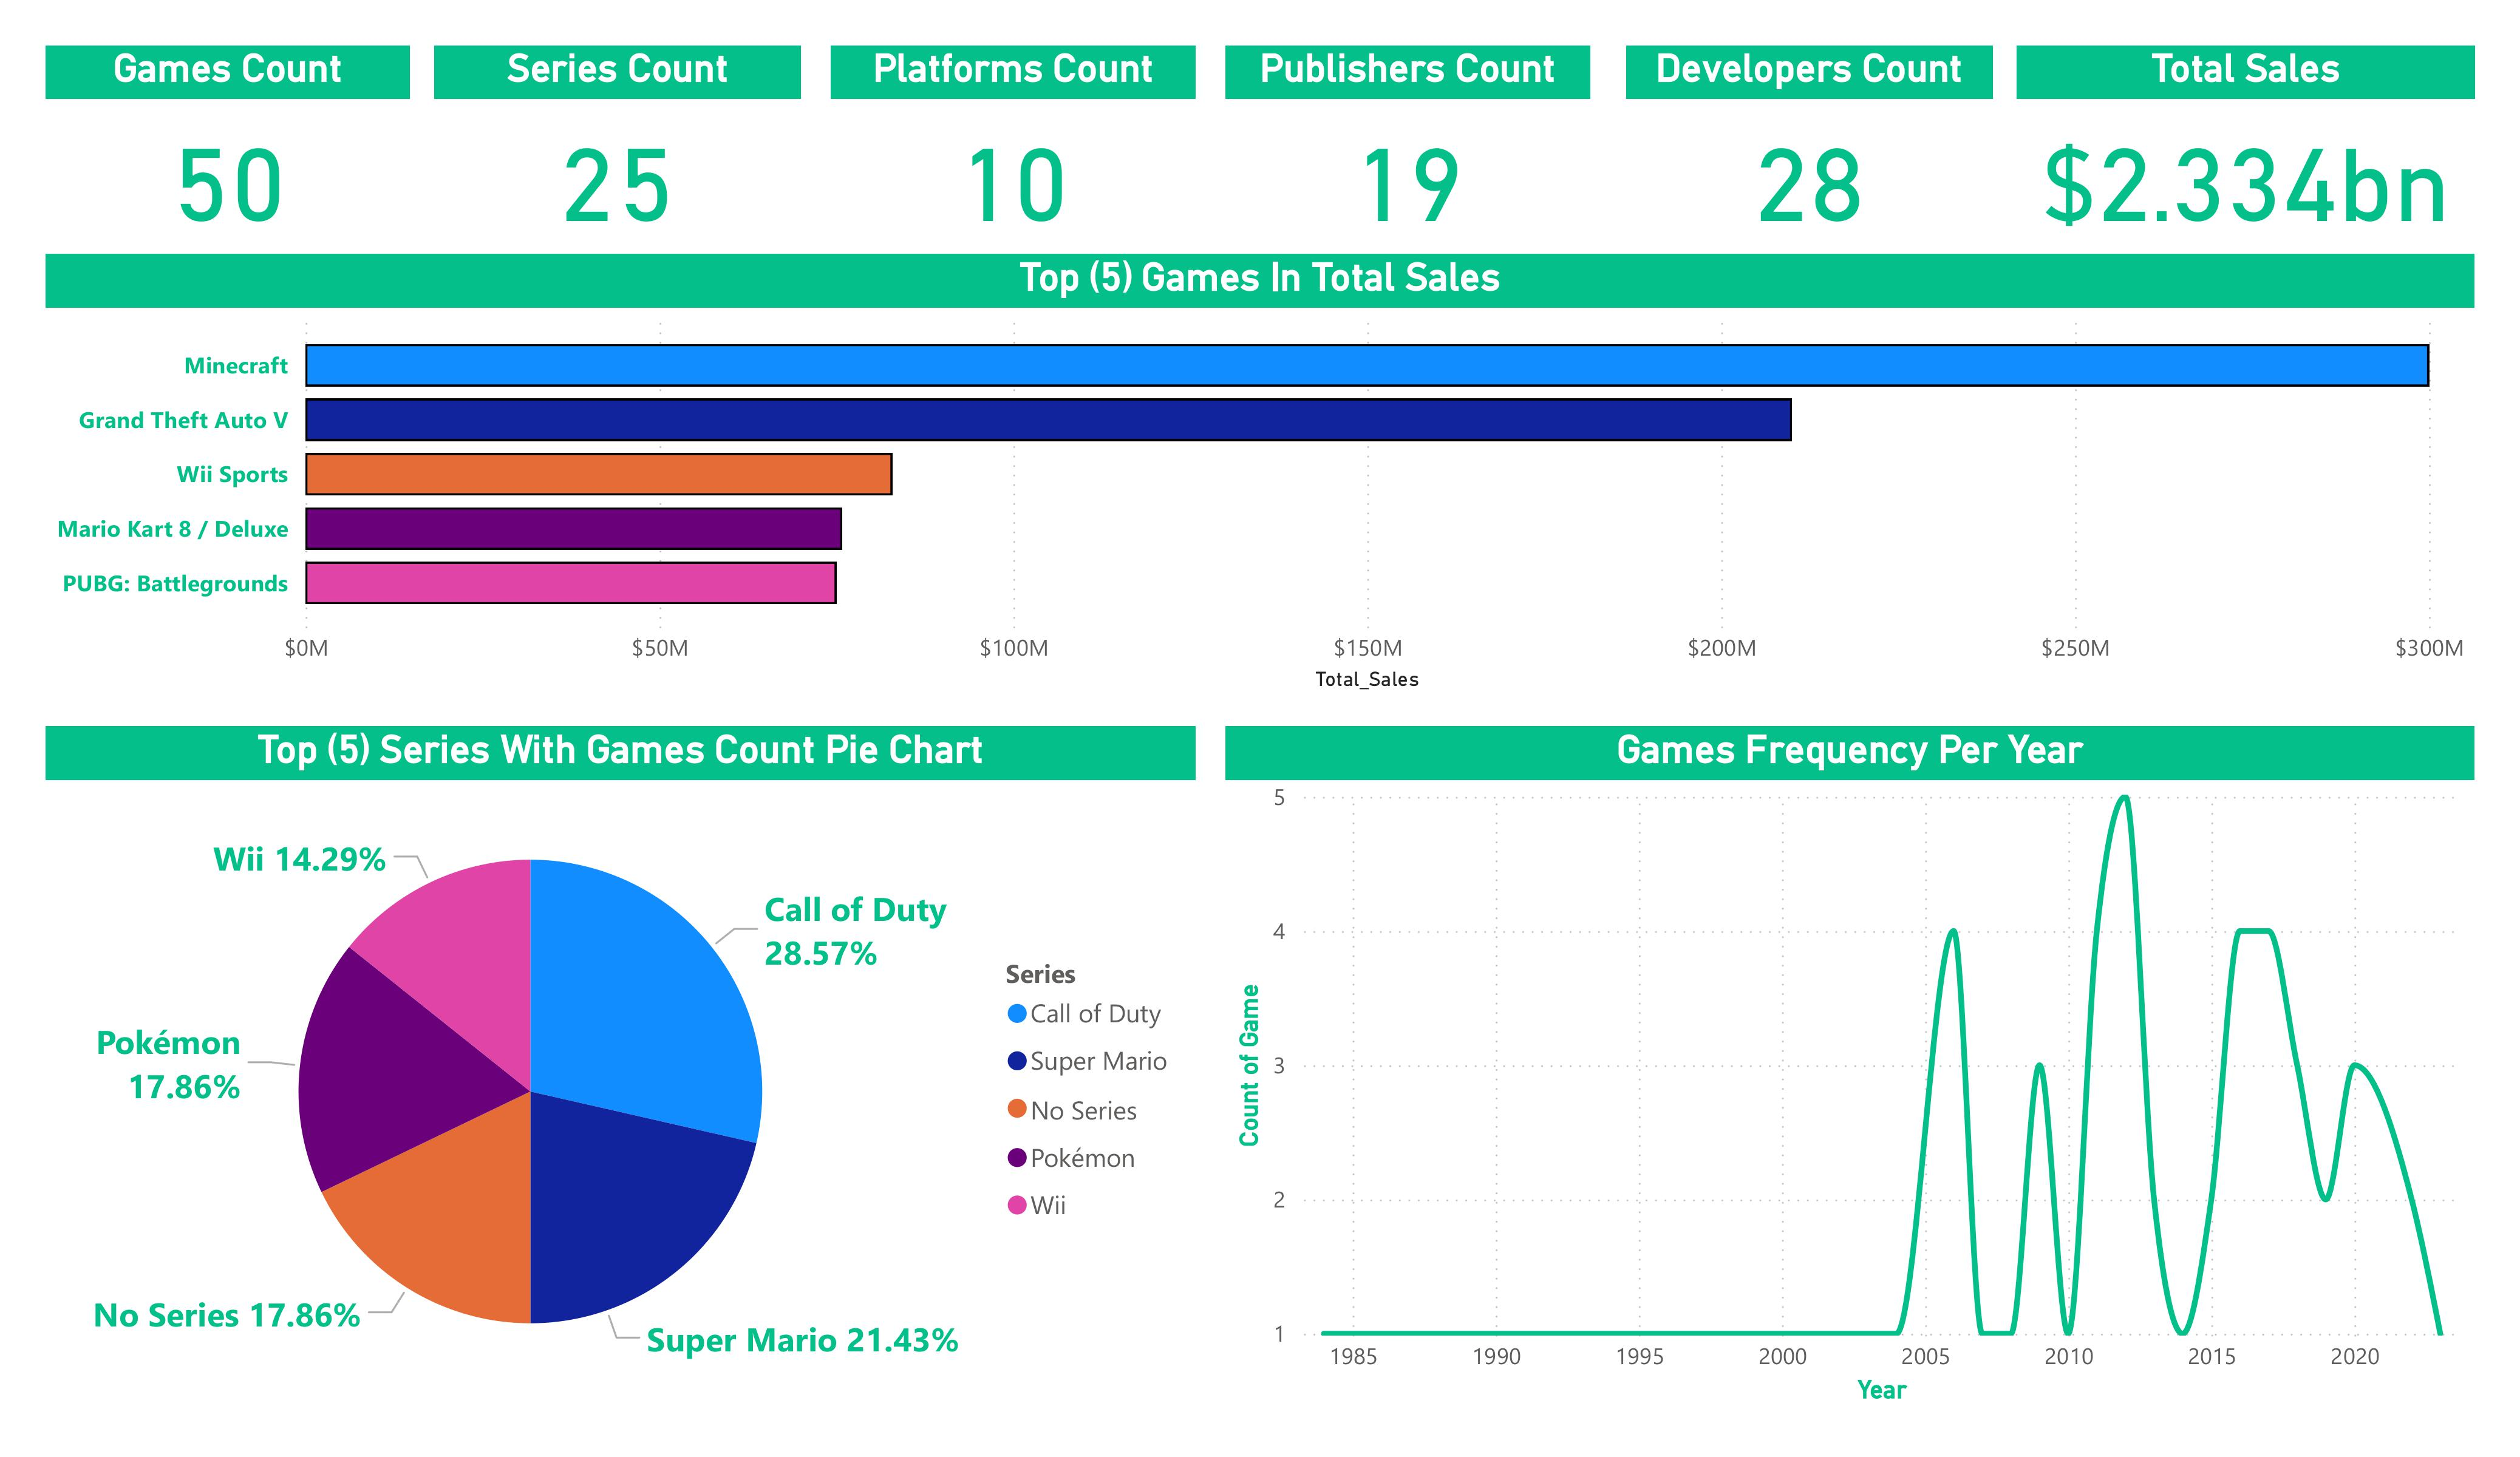

The dashboard page shown, as its layout file describes it:
{"tool":"powerbi","page":{"name":"Dashboard_1","canvas":[1280,720],"ordinal":0},"visuals":[{"type":"card","title":"Games Count","fields":{"Values":["Best_Selling_Video_Games.Games Count"]},"box":[0,0,192,110],"z":0},{"type":"card","title":"Total Sales ","fields":{"Values":["Best_Selling_Video_Games.Total_Sales"]},"box":[1038.7,0,241.8,110],"z":1000},{"type":"card","title":"Developers Count","fields":{"Values":["Best_Selling_Video_Games.Developers_Count"]},"box":[833.5,0,192.5,110],"z":2000},{"type":"card","title":"Series Count","fields":{"Values":["Best_Selling_Video_Games.Series_Count"]},"box":[205.2,0,192.5,110],"z":3000},{"type":"card","title":"Platforms Count","fields":{"Values":["Best_Selling_Video_Games.Platforms_Count"]},"box":[413.6,0,192.5,110],"z":4000},{"type":"card","title":"Publishers Count","fields":{"Values":["Best_Selling_Video_Games.Publishers_Count"]},"box":[621.9,0,192.5,110],"z":5000},{"type":"lineChart","title":"Games Frequency Per Year","fields":{"Category":["Best_Selling_Video_Games.Release_Date.Variation.Date Hierarchy.Year"],"Y":["CountNonNull(Best_Selling_Video_Games.Game)"]},"box":[621.9,359.5,658.5,361.1],"z":6000},{"type":"pieChart","title":"Top (5) Series With Games Count Pie Chart","fields":{"Category":["Best_Selling_Video_Games.Series"],"Y":["Best_Selling_Video_Games.Games_Count"]},"box":[0,359.5,606,361.1],"z":7000},{"type":"barChart","title":"Top (5) Games In Total Sales","fields":{"Category":["Best_Selling_Video_Games.Game"],"Y":["Best_Selling_Video_Games.Total_Sales"],"Series":["Best_Selling_Video_Games.Game"]},"box":[0,109.8,1280.4,235.4],"z":8000}]}

Visuals, with their boxes in screenshot pixels (x1, y1, x2, y2):
"Games Count" card: (46,46,410,254)
"Total Sales " card: (2017,46,2474,254)
"Developers Count" card: (1627,46,1992,254)
"Series Count" card: (435,46,800,254)
"Platforms Count" card: (831,46,1196,254)
"Publishers Count" card: (1225,46,1591,254)
"Games Frequency Per Year" lineChart: (1225,727,2474,1411)
"Top (5) Series With Games Count Pie Chart" pieChart: (46,727,1196,1411)
"Top (5) Games In Total Sales" barChart: (46,254,2474,701)
